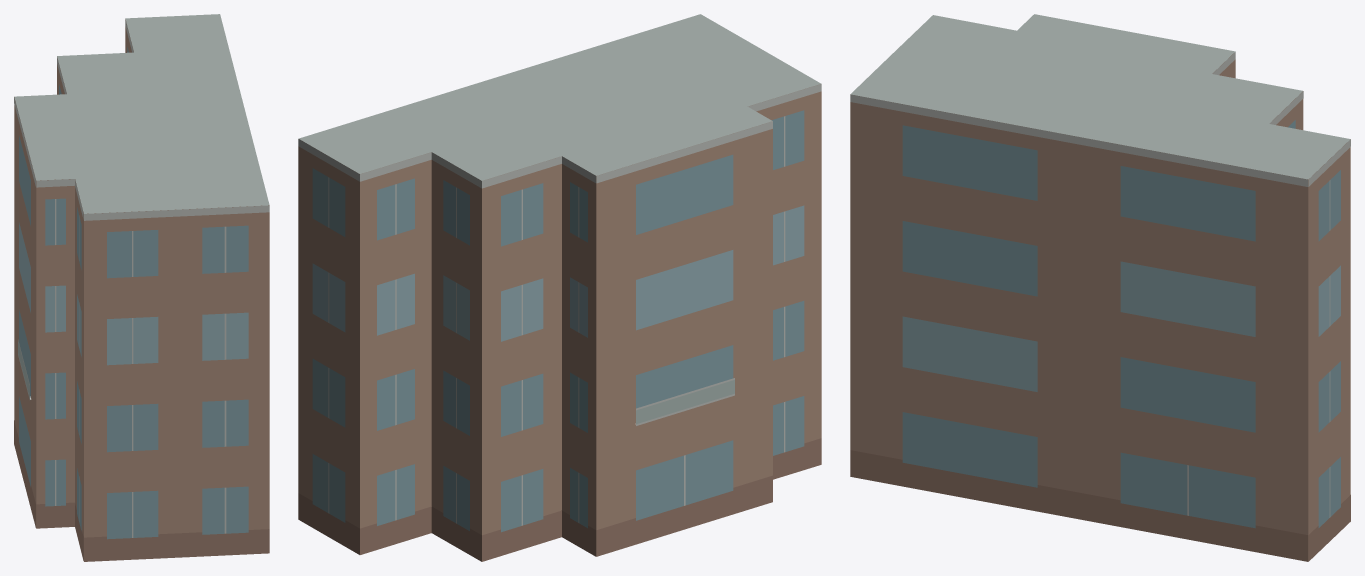
File: residential-1c746a3c-a91f-453c-933f-579355da73a1.glb
3 views of the same model, side by side, from view 1: azimuth 30°, elevation 25°; view 2: azimuth 150°, elevation 25°; view 3: azimuth 270°, elevation 25° (orthographic). The views are drawn at different scales.
Parts seen in each view (by area): view 1: residential-1c746a3c-a91f-453c-933f-579355da73a1.tmp; view 2: residential-1c746a3c-a91f-453c-933f-579355da73a1.tmp; view 3: residential-1c746a3c-a91f-453c-933f-579355da73a1.tmp.
Part boxes in pixels (x1,y1,x2,y2): residential-1c746a3c-a91f-453c-933f-579355da73a1.tmp: (14,14,269,561); residential-1c746a3c-a91f-453c-933f-579355da73a1.tmp: (298,14,821,561); residential-1c746a3c-a91f-453c-933f-579355da73a1.tmp: (850,14,1350,561).
Size of the model in its own units: 11.34 by 12.2 by 14.48.
